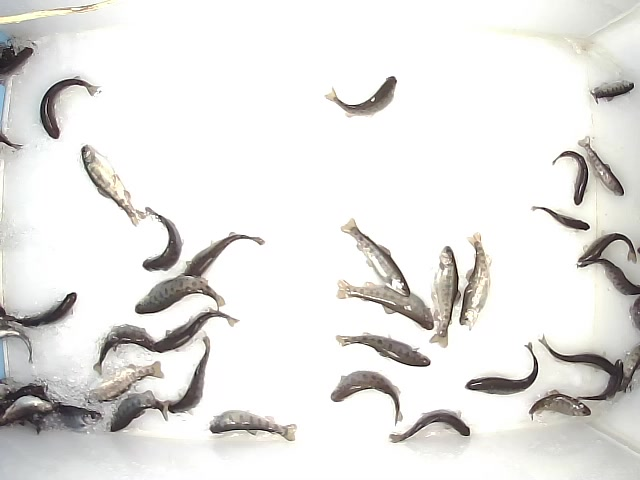fish: (337, 214, 413, 297), (77, 145, 147, 228), (332, 280, 436, 332), (534, 334, 633, 385), (327, 368, 406, 426), (460, 338, 539, 396), (182, 229, 267, 281), (133, 271, 227, 316), (38, 74, 100, 141), (150, 308, 242, 352), (331, 332, 435, 370), (80, 357, 165, 402), (322, 67, 397, 117), (95, 385, 171, 434), (169, 334, 216, 413), (455, 231, 493, 328), (91, 321, 158, 376), (139, 199, 184, 274), (428, 245, 460, 347), (1, 288, 80, 329), (206, 408, 303, 441), (387, 407, 474, 443), (576, 134, 624, 199), (548, 148, 589, 206), (25, 402, 103, 432), (527, 386, 590, 423), (574, 231, 640, 264), (579, 358, 627, 401), (530, 204, 591, 235), (588, 76, 636, 103)
